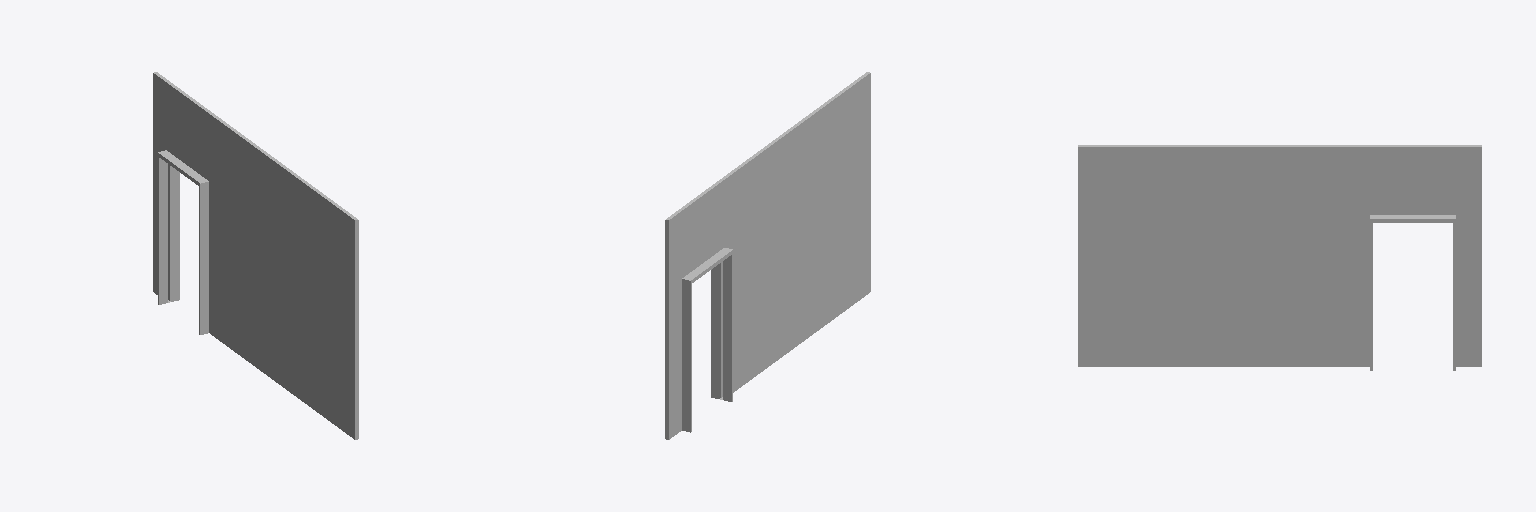
The model's file is Walll_4.obj.
3 views of the same model, side by side, from view 1: azimuth 30°, elevation 25°; view 2: azimuth 150°, elevation 25°; view 3: azimuth 270°, elevation 25° (orthographic).
Visible parts, largest first — view 1: Walll_4_Cube.004; view 2: Walll_4_Cube.004; view 3: Walll_4_Cube.004.
Boxes of the visible parts, x1=… form: Walll_4_Cube.004: x1=153, y1=72, x2=358, y2=439; Walll_4_Cube.004: x1=665, y1=72, x2=870, y2=439; Walll_4_Cube.004: x1=1078, y1=145, x2=1481, y2=370.
Bounding box in the file's own units: 60 × 600 × 1000.